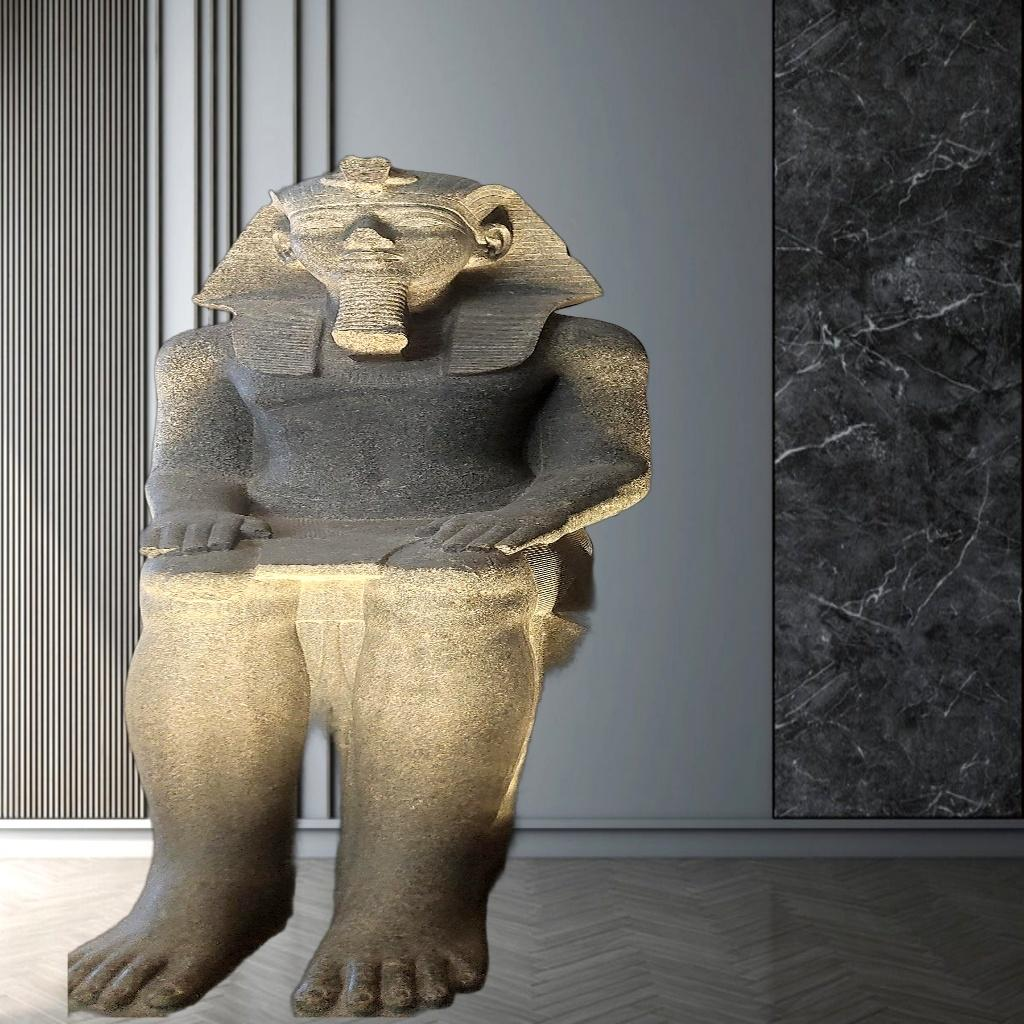Seated Statue of Amenhotep III: (68, 148, 659, 1018)
